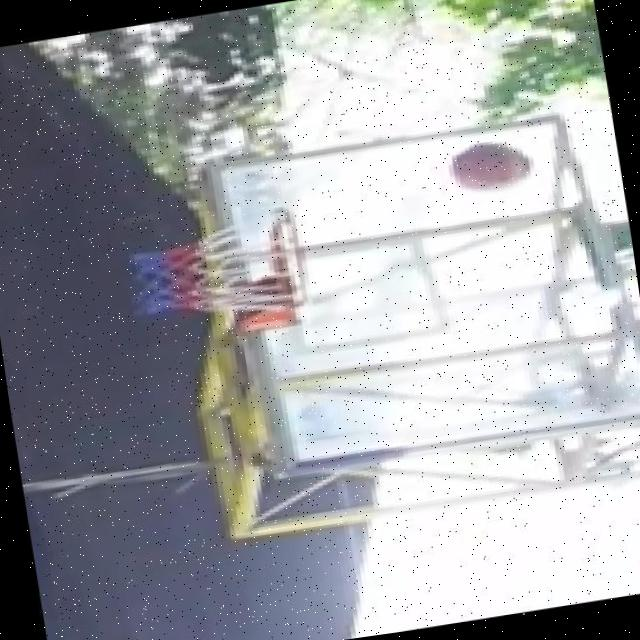ball: (443, 126, 545, 202)
